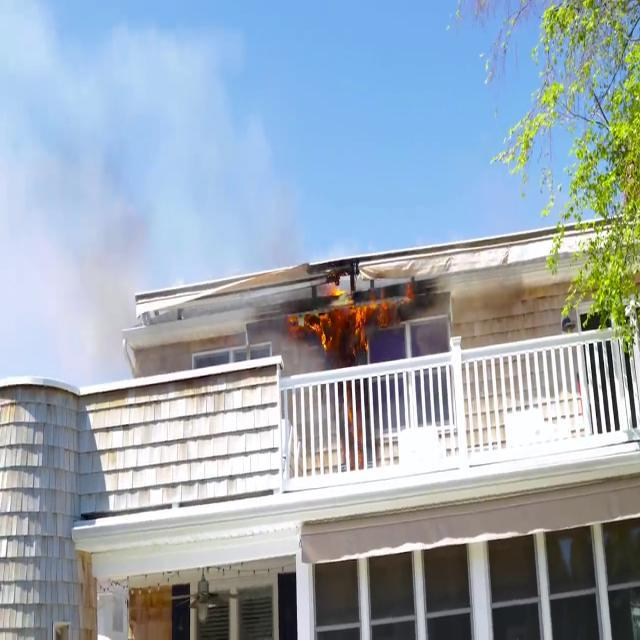Fire: (297, 278, 397, 368)
